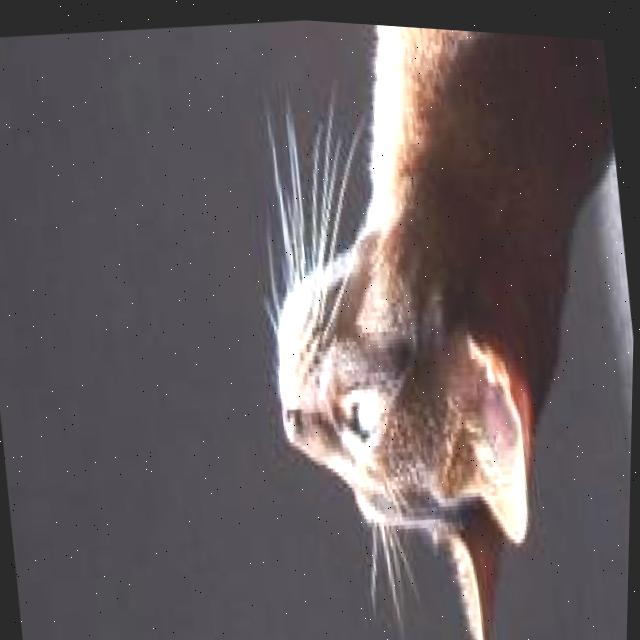Abyssinian: (222, 12, 640, 640)
